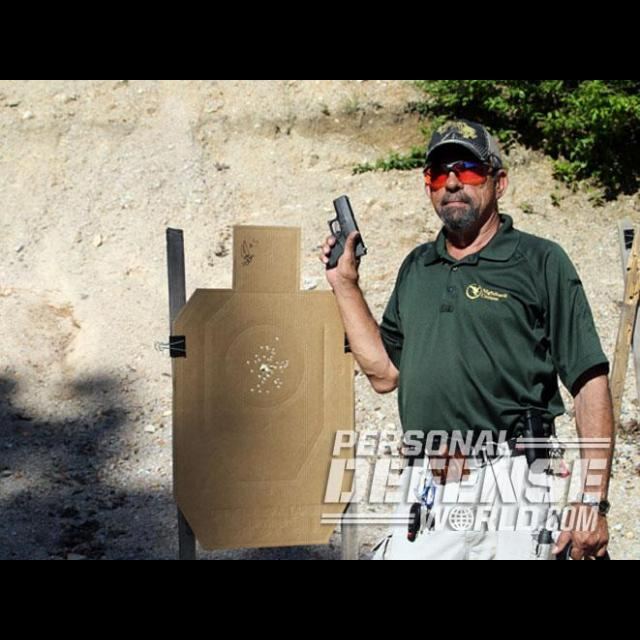handgun: (328, 192, 370, 270)
